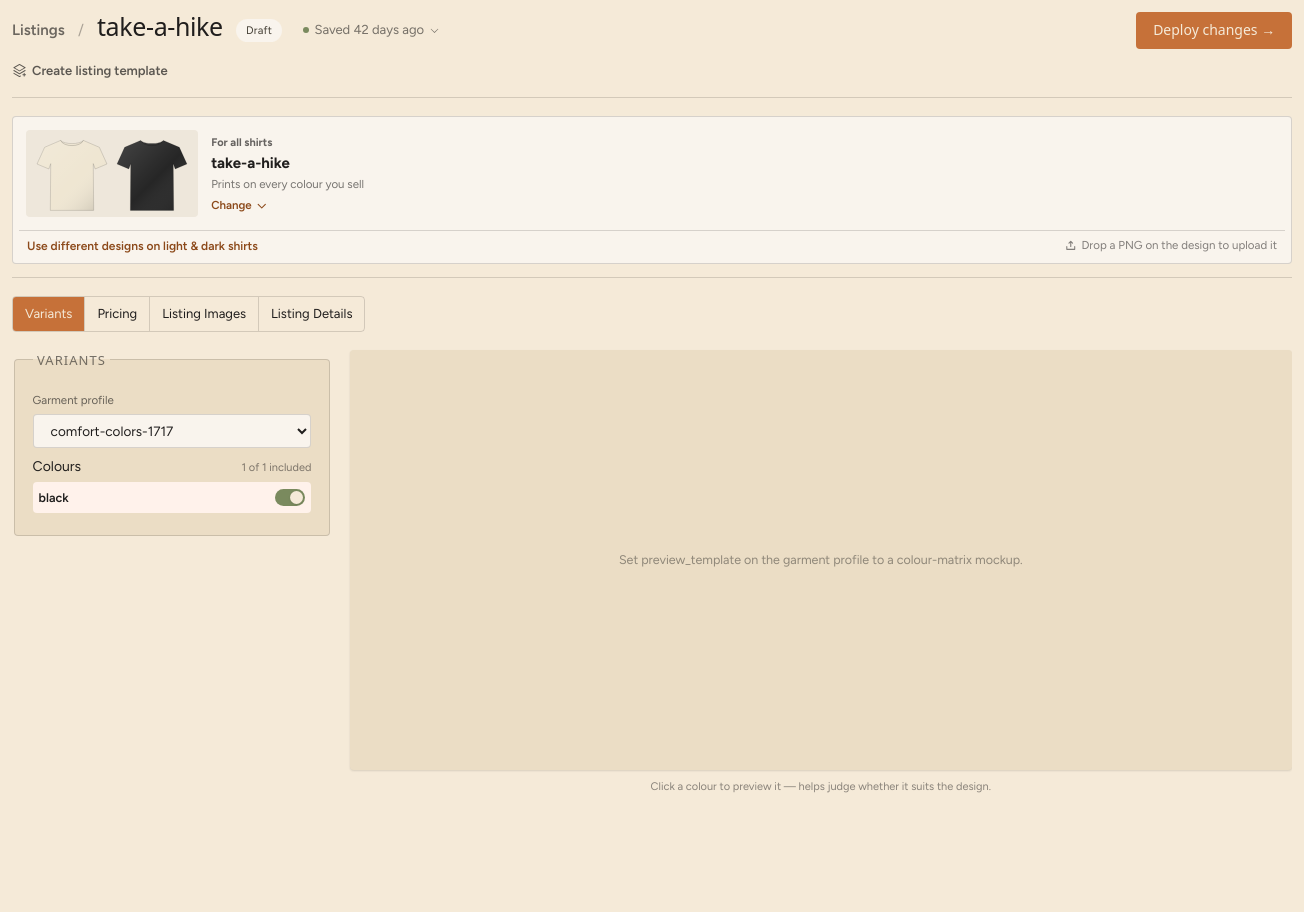
it: ListingEditorPage › switches tabs
Expected: the heading "take-a-hike" is shown, top-left (97, 12), bottom-right (223, 40)
Click the text "Listing Details" at (311, 314), box top-left (258, 297), bottom-right (364, 331)
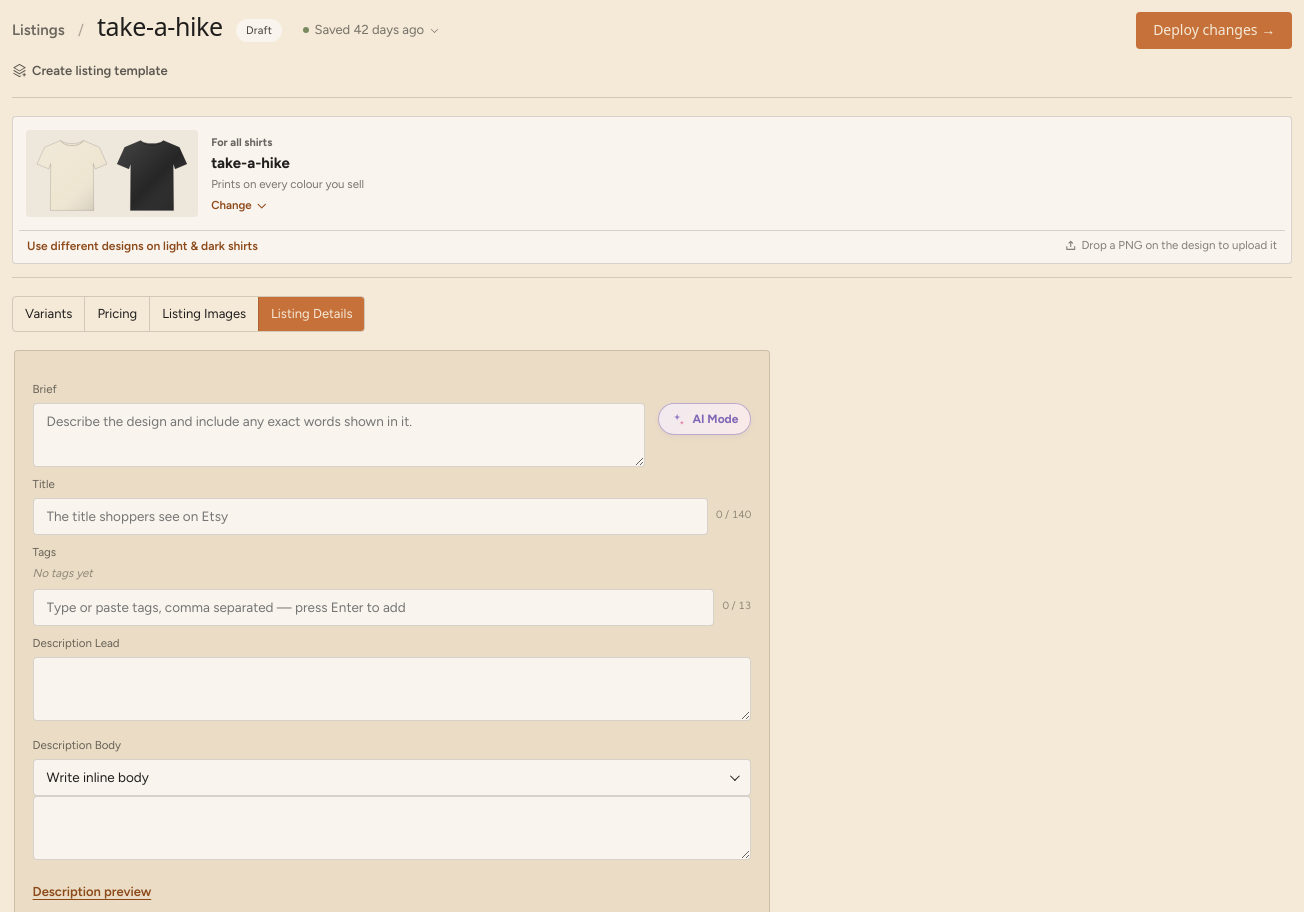
Expected: the field labelled "Title" is shown, top-left (33, 498), bottom-right (708, 535)
